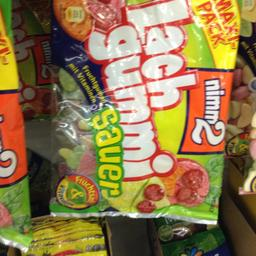candy: (48, 0, 240, 223)
